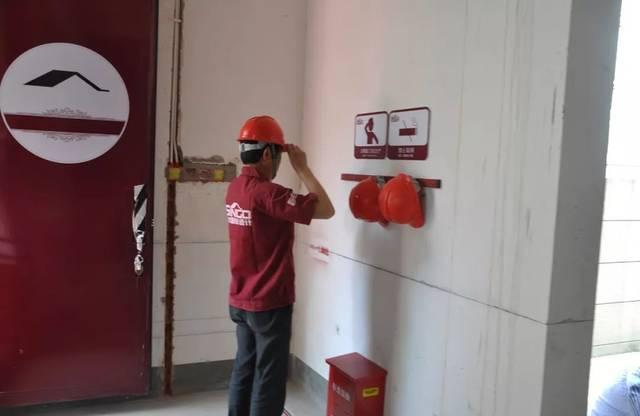helmet: (237, 116, 290, 150)
